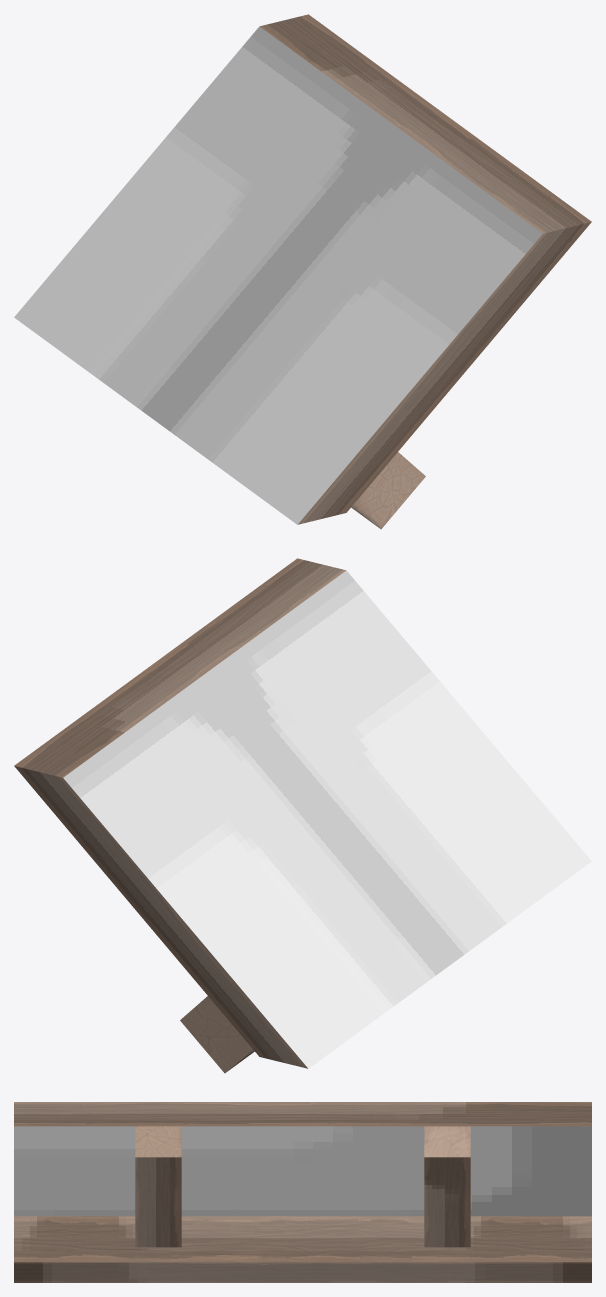
Rendered from SM_HouseRoof_03.fbx.
3 renders of one model, top to bottom at view 1: azimuth 30°, elevation 25°; view 2: azimuth 150°, elevation 25°; view 3: azimuth 270°, elevation 25°, orthographic.
Visible parts, largest first — view 1: SM_HouseRoof_03; view 2: SM_HouseRoof_03; view 3: SM_HouseRoof_03.
Part boxes in pixels (left/top/right/bottom): SM_HouseRoof_03: left=14, top=14, right=591, bottom=529; SM_HouseRoof_03: left=14, top=558, right=591, bottom=1073; SM_HouseRoof_03: left=14, top=1102, right=591, bottom=1282.
Bounding box in the file's own units: 320 × 500 × 249.
